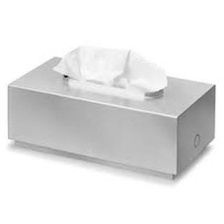book: (1, 50, 221, 184)
tissue: (48, 39, 172, 104)
